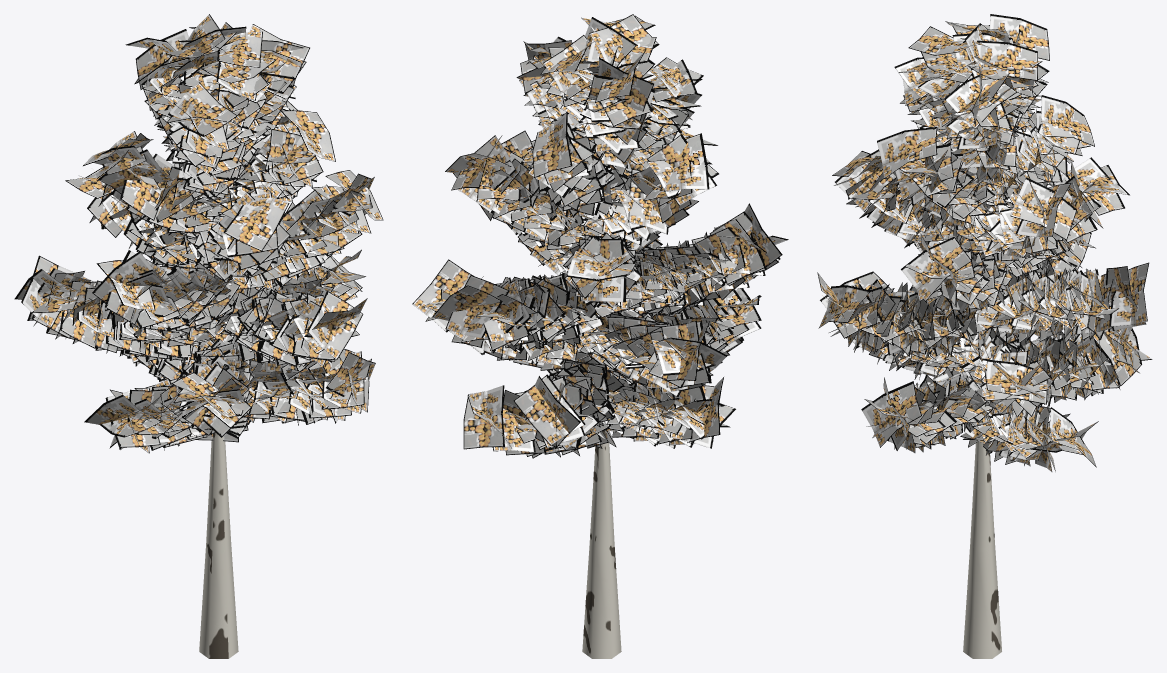
File: American Aspen.fbx
3 renders of one model, left to right at view 1: azimuth 30°, elevation 25°; view 2: azimuth 150°, elevation 25°; view 3: azimuth 270°, elevation 25°, orthographic.
Parts seen in each view (by area): view 1: American Aspen; view 2: American Aspen; view 3: American Aspen.
Boxes of the visible parts, <box> form: American Aspen: <box>14,14,383,658</box>; American Aspen: <box>412,14,788,658</box>; American Aspen: <box>817,14,1152,658</box>.
Size of the model in its own units: 4.76 by 8.94 by 4.35.
